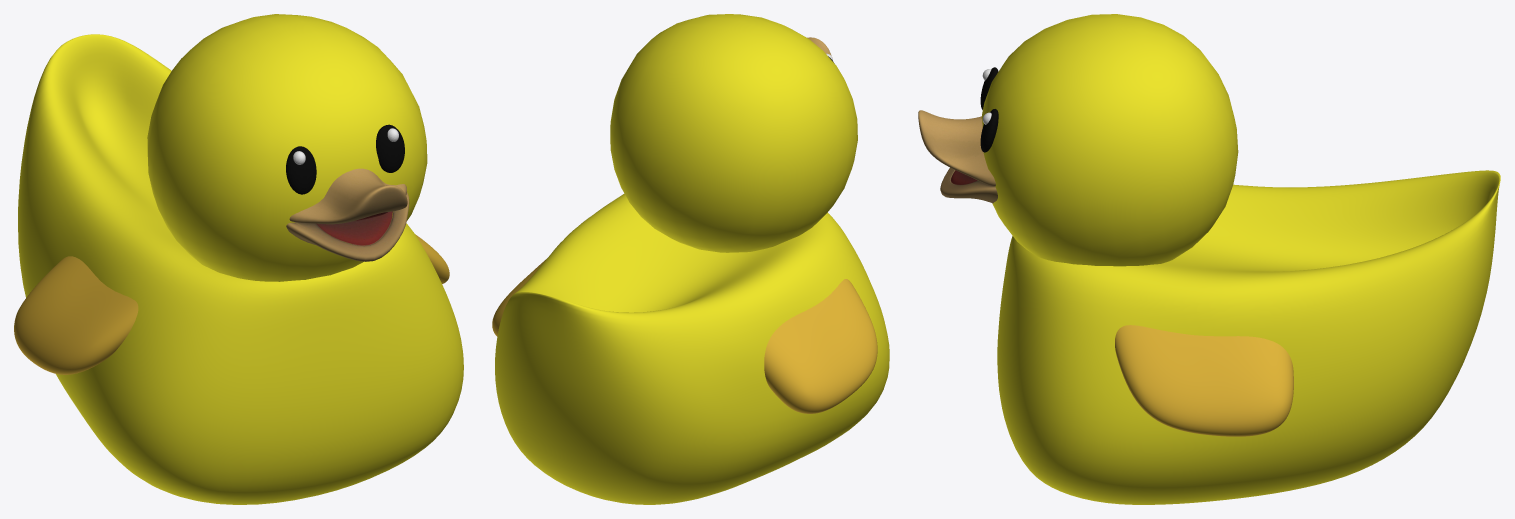
Rendered from Ducky.fbx.
3 views of the same model, side by side, from view 1: azimuth 30°, elevation 25°; view 2: azimuth 150°, elevation 25°; view 3: azimuth 270°, elevation 25° (orthographic). The views are drawn at different scales.
Visible parts, largest first — view 1: Patito; view 2: Patito; view 3: Patito.
Boxes of the visible parts, left/top/right/bottom form: Patito: left=14, top=14, right=463, bottom=504; Patito: left=492, top=14, right=889, bottom=504; Patito: left=918, top=14, right=1500, bottom=504.
Bounding box in the file's own units: 196 × 223 × 264.
